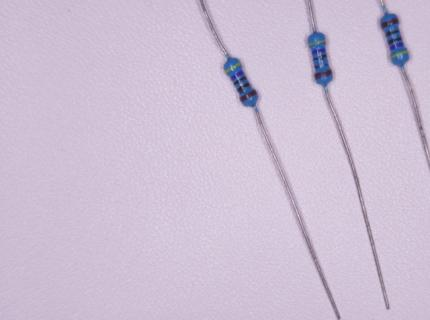Black band: (237, 82, 251, 93), (233, 76, 247, 86), (385, 29, 400, 37), (388, 36, 402, 44), (313, 54, 327, 61), (314, 63, 329, 69)
Brown band: (239, 90, 257, 103), (380, 18, 399, 29), (315, 70, 332, 79)
Violet band: (230, 70, 245, 81), (389, 42, 404, 51), (312, 48, 325, 54)
Yellow band: (390, 50, 408, 59), (225, 63, 241, 73), (308, 39, 326, 46)
